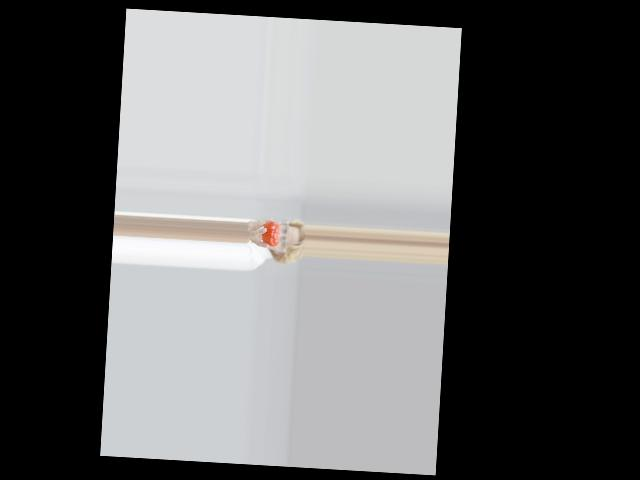tomato: (261, 221, 279, 247)
